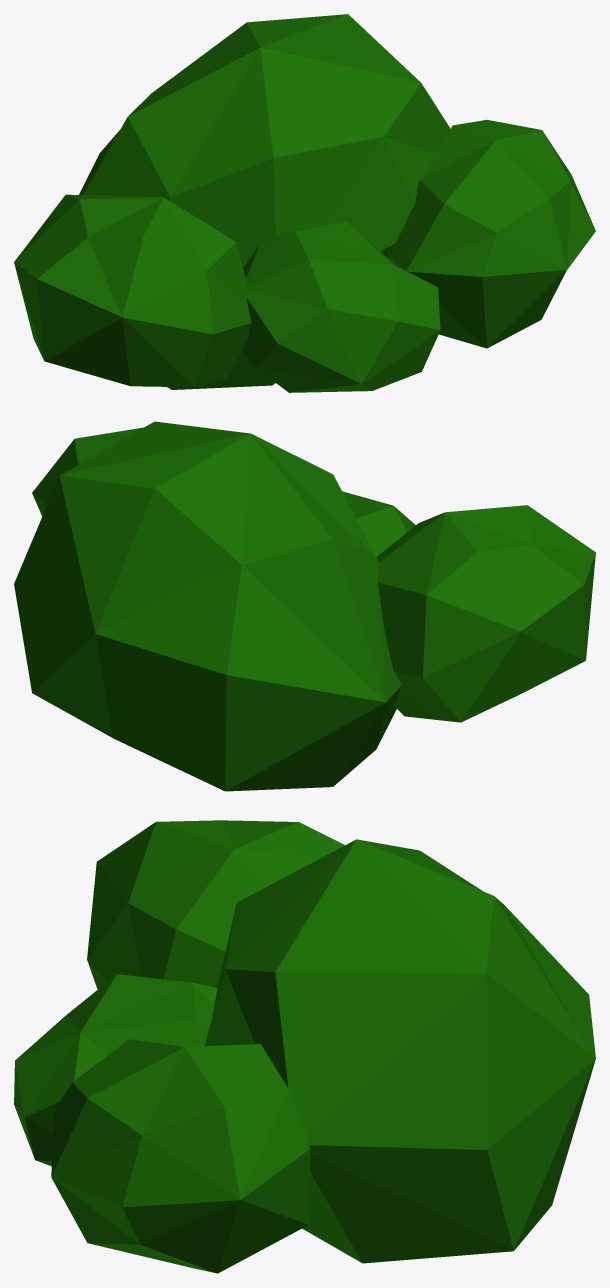
File: Shurb_B.fbx
3 renders of one model, top to bottom at view 1: azimuth 30°, elevation 25°; view 2: azimuth 150°, elevation 25°; view 3: azimuth 270°, elevation 25°, orthographic. The views are drawn at different scales.
Parts seen in each view (by area): view 1: shurb1, shurb4, shurb2, shurb3; view 2: shurb1, shurb4, shurb3, shurb2; view 3: shurb1, shurb2, shurb4, shurb3.
Boxes of the visible parts, x1,y1,x2,y2 form: shurb1: [79, 14, 450, 389]; shurb4: [14, 194, 251, 387]; shurb2: [388, 120, 595, 348]; shurb3: [242, 222, 440, 392]; shurb1: [14, 421, 401, 791]; shurb4: [376, 505, 595, 722]; shurb3: [342, 491, 415, 556]; shurb2: [32, 427, 143, 516]; shurb1: [204, 839, 595, 1263]; shurb2: [51, 1039, 310, 1273]; shurb4: [87, 820, 344, 989]; shurb3: [14, 974, 217, 1165].
Size of the model in its own units: 13.62 by 7.55 by 10.06.
